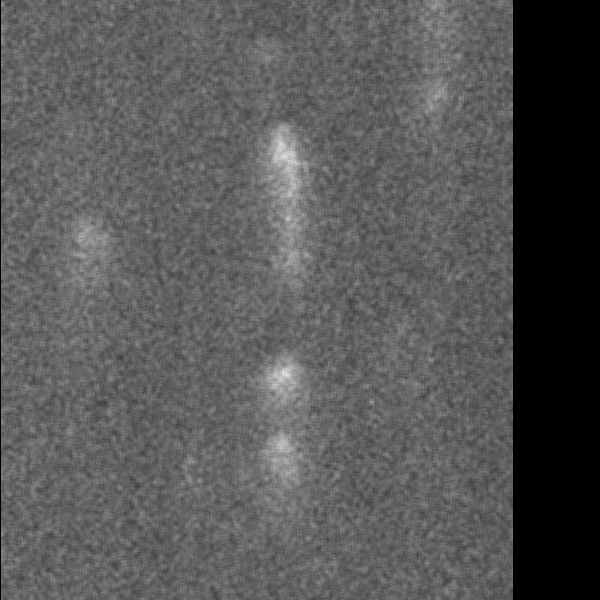spark: (57, 211, 121, 305), (254, 354, 306, 396), (259, 424, 301, 474), (421, 76, 453, 113)
